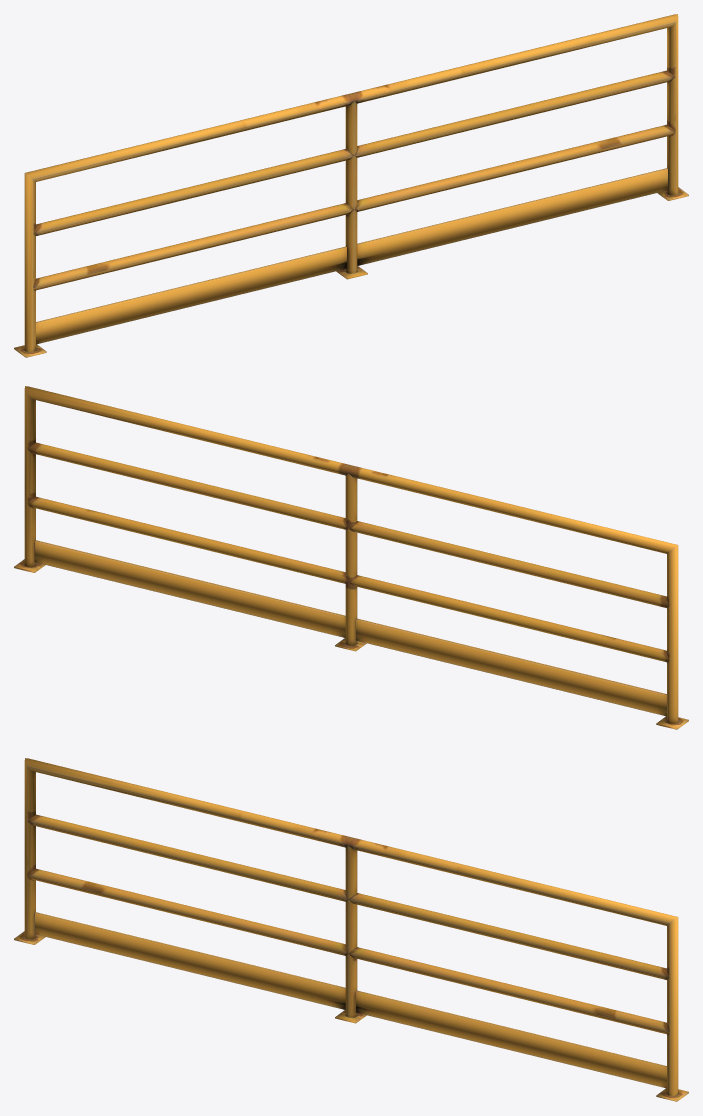
3 views of the same model, one above another, from view 1: azimuth 30°, elevation 25°; view 2: azimuth 150°, elevation 25°; view 3: azimuth 330°, elevation 25° (orthographic).
Parts seen in each view (by area): view 1: body0_model0_lod0_mesh0; view 2: body0_model0_lod0_mesh0; view 3: body0_model0_lod0_mesh0.
Part boxes in pixels (box(x1,y1,x2,y2)): body0_model0_lod0_mesh0: box(14, 14, 688, 357); body0_model0_lod0_mesh0: box(14, 386, 688, 729); body0_model0_lod0_mesh0: box(14, 758, 688, 1101).
Size of the model in its own units: 128 by 33 by 4.
1 material, 1 textured.
